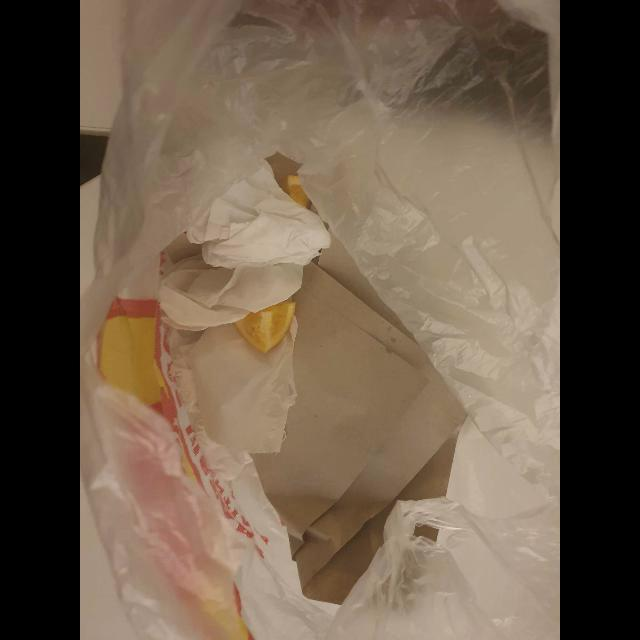paper: (251, 264, 467, 606), (168, 314, 298, 481), (186, 161, 332, 269), (158, 254, 304, 332)
